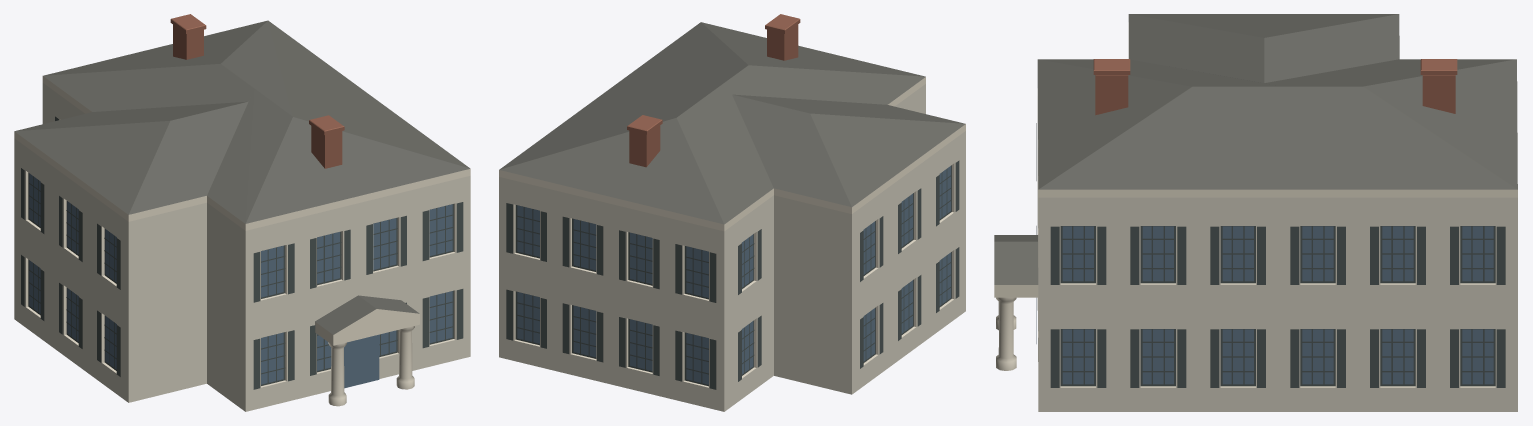
Rendered from dc-au-presidents-office.detail.glb.
The picture shows the model from 3 angles, left to right: view 1: azimuth 30°, elevation 25°; view 2: azimuth 150°, elevation 25°; view 3: azimuth 270°, elevation 25°; orthographic projection. The views are drawn at different scales.
Parts seen in each view (by area): view 1: President’s Office; view 2: President’s Office; view 3: President’s Office.
Part boxes in pixels (x1=…): President’s Office: x1=14, y1=14, x2=470, y2=411; President’s Office: x1=499, y1=14, x2=965, y2=411; President’s Office: x1=994, y1=14, x2=1517, y2=411.
Size of the model in its own units: 14.79 by 11.04 by 18.59.
